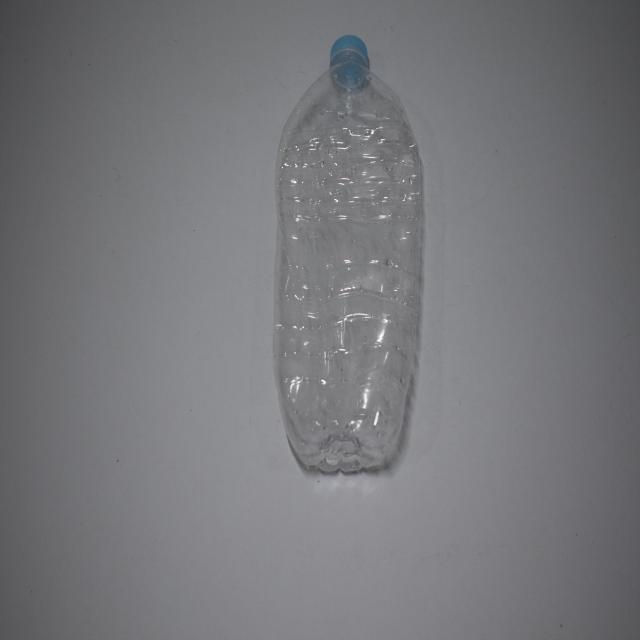empty: (273, 37, 422, 472)
